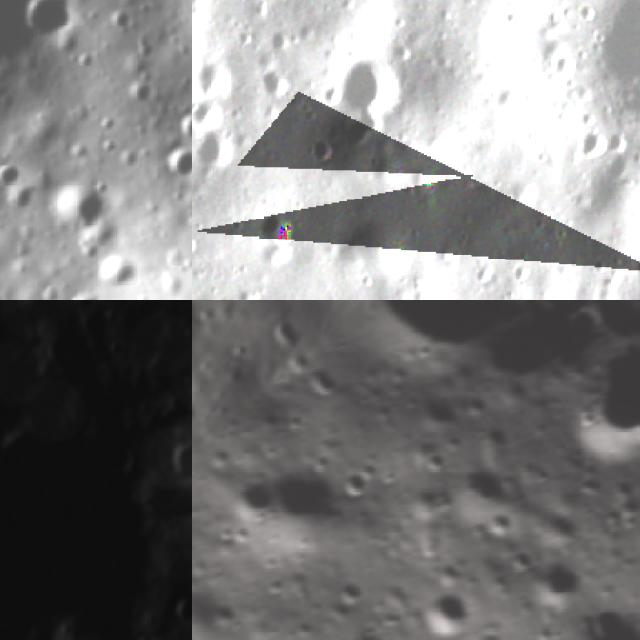crater: (529, 302, 640, 484), (259, 446, 364, 551), (443, 449, 524, 530), (523, 538, 603, 618), (403, 575, 488, 640), (217, 459, 290, 532), (594, 0, 640, 111), (330, 48, 408, 108), (411, 377, 479, 443), (564, 588, 640, 640), (54, 176, 110, 241), (137, 341, 192, 398), (329, 458, 384, 515), (328, 566, 379, 619), (20, 0, 80, 45), (192, 124, 241, 173), (337, 108, 392, 150), (192, 58, 239, 97), (593, 151, 636, 193), (253, 206, 299, 244), (192, 94, 231, 134), (161, 433, 192, 482), (157, 144, 192, 187), (574, 125, 608, 162), (490, 82, 527, 114), (550, 46, 584, 80), (260, 66, 291, 100), (602, 122, 632, 152), (304, 134, 331, 167), (169, 595, 192, 631), (497, 3, 525, 31), (572, 0, 602, 25), (265, 26, 292, 53), (174, 108, 192, 148), (232, 281, 264, 300)
